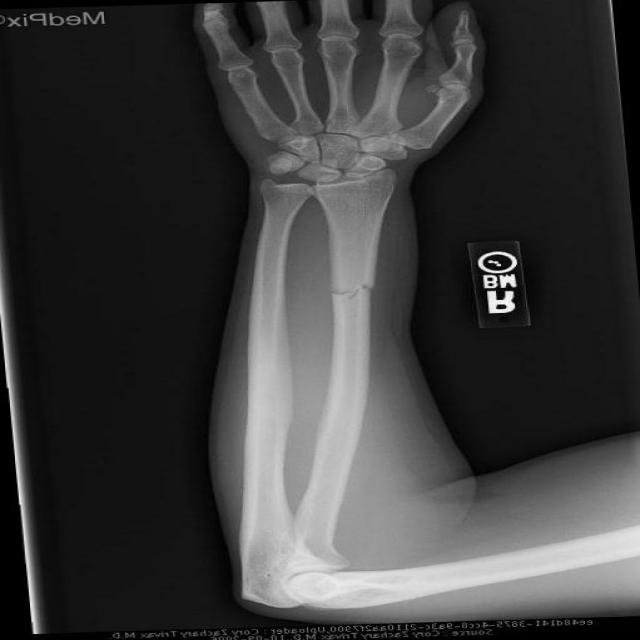Transverse Displaced: (317, 274, 397, 308)
